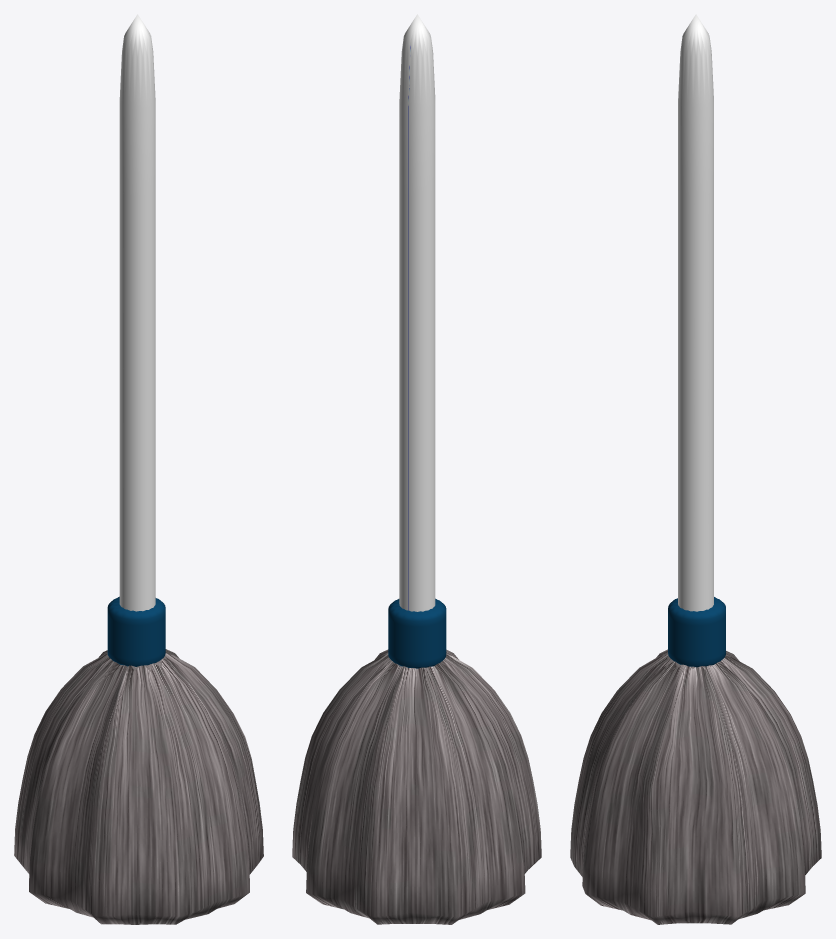
Rendered from Mop.FBX.
The picture shows the model from 3 angles, left to right: view 1: azimuth 30°, elevation 25°; view 2: azimuth 150°, elevation 25°; view 3: azimuth 270°, elevation 25°; orthographic projection.
Visible parts, largest first — view 1: Cylinder002; view 2: Cylinder002; view 3: Cylinder002.
Boxes of the visible parts, x1=… form: Cylinder002: x1=14, y1=14, x2=263, y2=924; Cylinder002: x1=292, y1=14, x2=541, y2=924; Cylinder002: x1=570, y1=14, x2=821, y2=924.
Bounding box in the file's own units: 49.01 × 194 × 50.23.
